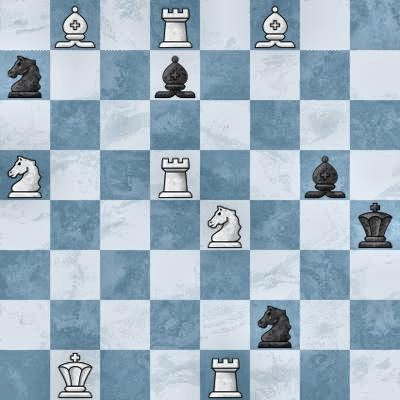black-bishop: (150, 50, 200, 100), (300, 150, 350, 200)
black-king: (350, 200, 400, 250)
black-knight: (0, 50, 50, 100), (250, 300, 300, 350)
white-bishop: (50, 0, 100, 50), (250, 0, 300, 50)
white-king: (50, 350, 100, 400)
white-knight: (0, 150, 50, 200), (200, 200, 250, 250)
white-rook: (150, 0, 200, 50), (150, 150, 200, 200), (200, 350, 250, 400)
